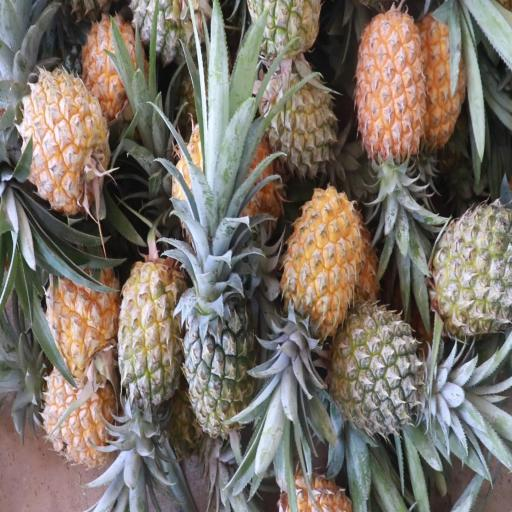------------------------------: (119, 260, 183, 432)
Pineapple - v8 v1: (357, 7, 427, 241), (286, 181, 357, 410), (18, 82, 118, 215), (46, 248, 127, 381), (83, 18, 152, 124), (421, 6, 469, 152), (44, 377, 121, 465)
